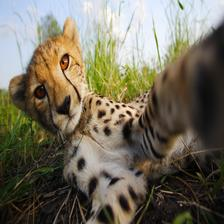Cheetah: (8, 16, 224, 224)
